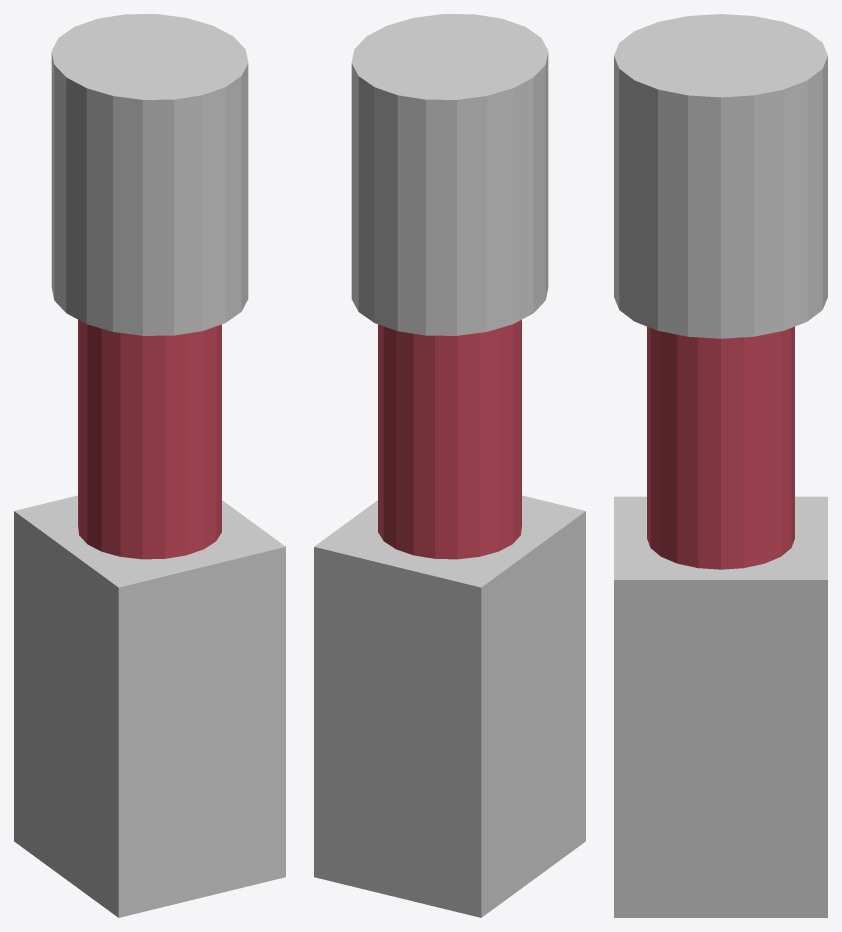
File: Bowling Pin 2.glb
3 views of the same model, side by side, from view 1: azimuth 30°, elevation 25°; view 2: azimuth 150°, elevation 25°; view 3: azimuth 270°, elevation 25° (orthographic). The views are drawn at different scales.
Parts seen in each view (by area): view 1: Mesh_Mesh_head_geo.001_lambert2SG.001; view 2: Mesh_Mesh_head_geo.001_lambert2SG.001; view 3: Mesh_Mesh_head_geo.001_lambert2SG.001.
Part boxes in pixels (x1,y1,x2,y2): Mesh_Mesh_head_geo.001_lambert2SG.001: (14,14,285,917); Mesh_Mesh_head_geo.001_lambert2SG.001: (314,14,585,917); Mesh_Mesh_head_geo.001_lambert2SG.001: (614,14,827,917).
Bounding box in the file's own units: 12 × 55 × 13.
